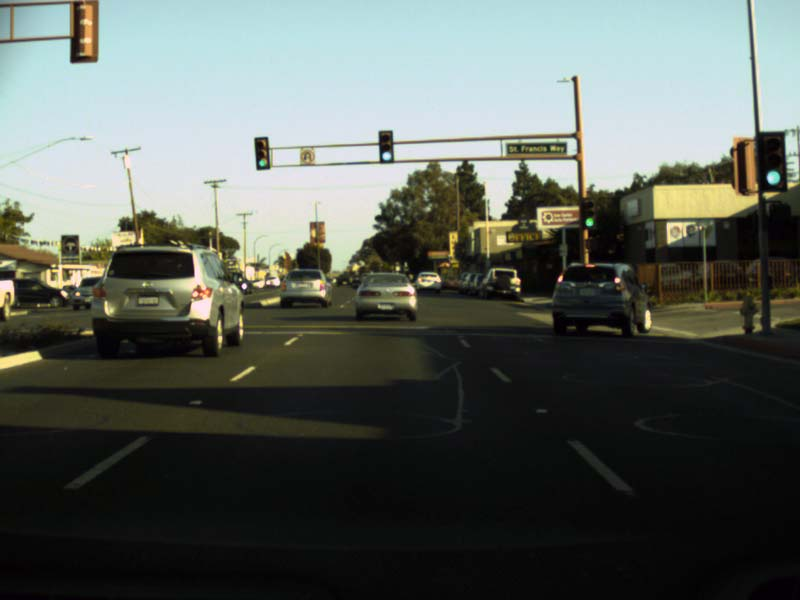Green: (757, 135, 784, 186), (254, 138, 269, 168), (379, 130, 392, 161), (581, 198, 594, 227)
